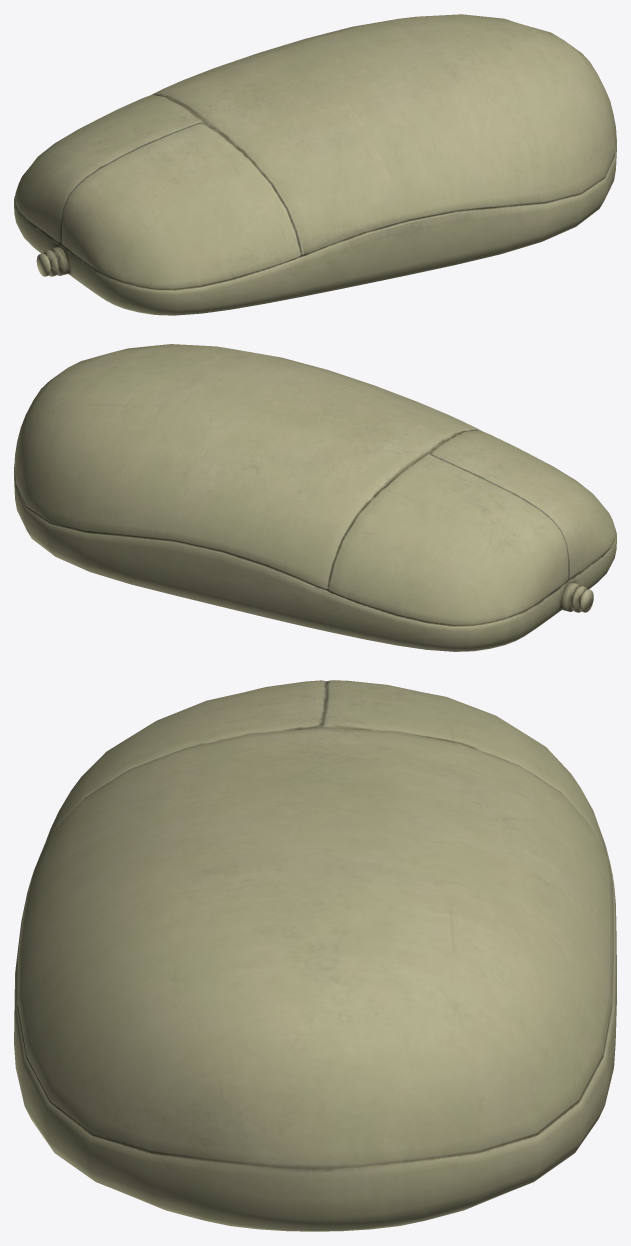
File: retro-mouse.glb
3 renders of one model, top to bottom at view 1: azimuth 30°, elevation 25°; view 2: azimuth 150°, elevation 25°; view 3: azimuth 270°, elevation 25°, orthographic. The views are drawn at different scales.
Visible parts, largest first — view 1: Keyboard; view 2: Keyboard; view 3: Keyboard.
Part boxes in pixels (left/top/right/bottom): Keyboard: left=14, top=14, right=616, bottom=315; Keyboard: left=14, top=344, right=616, bottom=651; Keyboard: left=14, top=680, right=616, bottom=1231.
Bounding box in the file's own units: 0.6408 × 0.1663 × 0.3667.
1 material, 1 textured.
